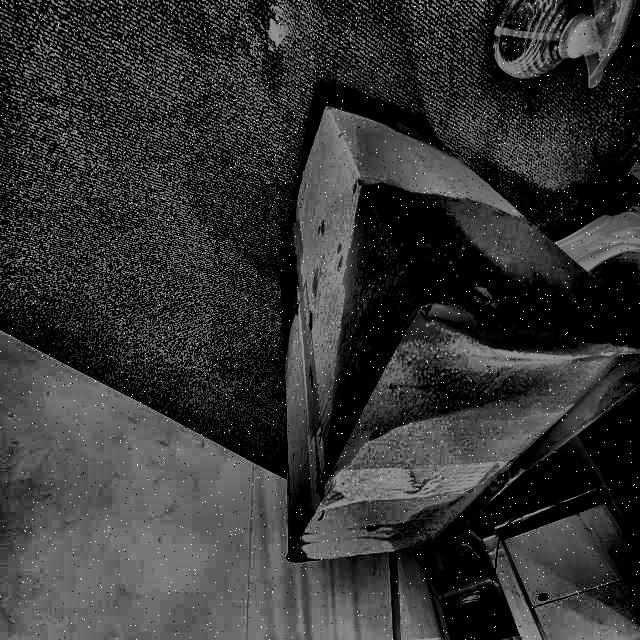box: (269, 68, 639, 567)
wet: (323, 190, 617, 428)
